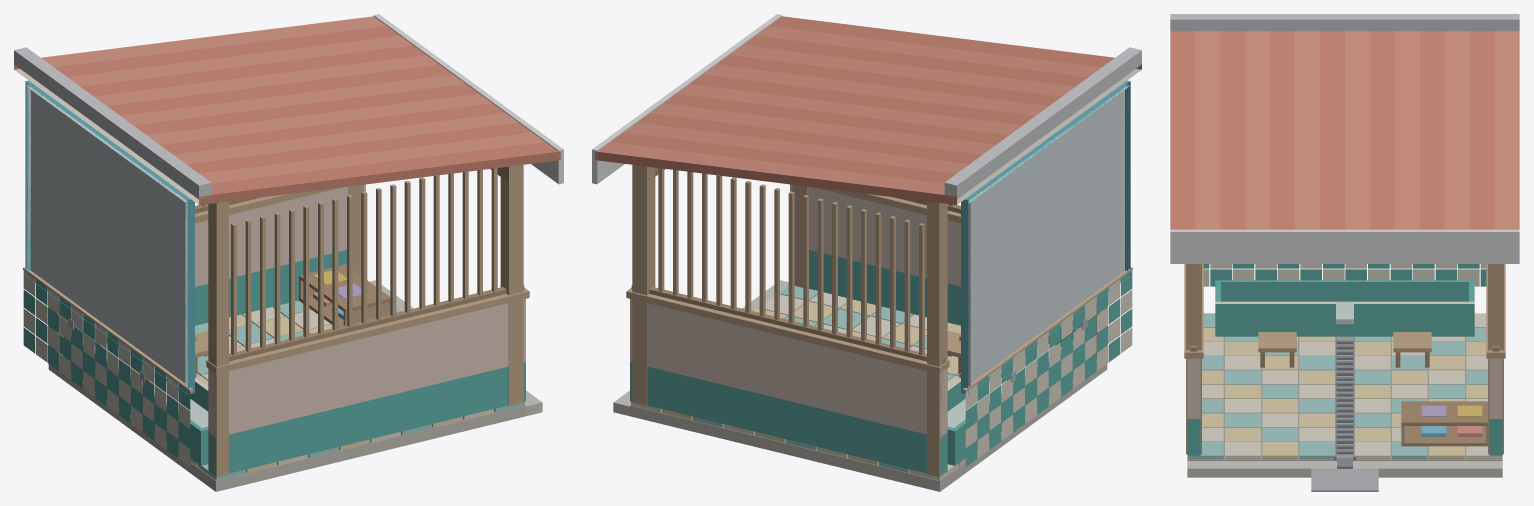
Rendered from wuduk_luar.glb.
3 renders of one model, left to right at view 1: azimuth 30°, elevation 25°; view 2: azimuth 150°, elevation 25°; view 3: azimuth 270°, elevation 25°, orthographic. The views are drawn at different scales.
Visible parts, largest first — view 1: wuduk_dinding, wuduk_bumbung, wuduk_papan, wuduk_besen, wuduk_lantai, wuduk_rak; view 2: wuduk_dinding, wuduk_bumbung, wuduk_papan, wuduk_besen, wuduk_lantai; view 3: wuduk_bumbung, wuduk_lantai, wuduk_besen, wuduk_dinding, wuduk_rak, wuduk_bangku.
Part boxes in pixels (box(x1,y1,x2,y2)): wuduk_dinding: box(48, 165, 529, 477); wuduk_bumbung: box(14, 14, 563, 204); wuduk_papan: box(25, 80, 196, 394); wuduk_besen: box(23, 267, 208, 466); wuduk_lantai: box(48, 280, 542, 491); wuduk_rak: box(299, 264, 390, 326); wuduk_dinding: box(626, 165, 1107, 477); wuduk_bumbung: box(592, 14, 1141, 204); wuduk_papan: box(959, 80, 1130, 394); wuduk_besen: box(947, 267, 1132, 466); wuduk_lantai: box(613, 280, 1107, 491); wuduk_bumbung: box(1170, 14, 1519, 263); wuduk_lantai: box(1187, 313, 1502, 491); wuduk_besen: box(1203, 264, 1486, 336); wuduk_dinding: box(1184, 264, 1505, 455); wuduk_rak: box(1401, 401, 1487, 446); wuduk_bangku: box(1258, 332, 1431, 367).
Size of the model in its own units: 3.87 by 2.95 by 3.1.
